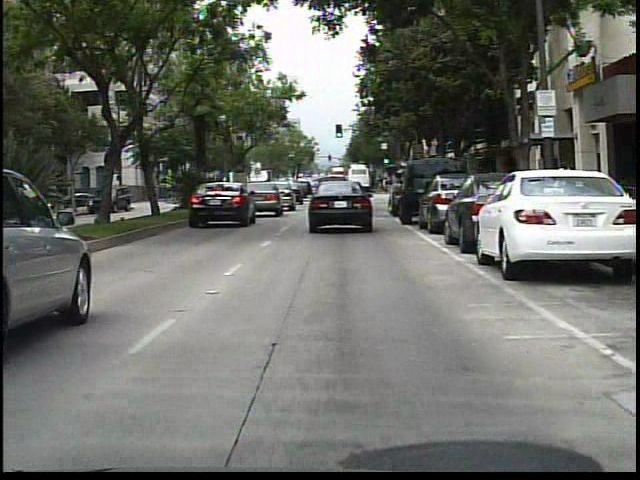person: (552, 156, 575, 216)
